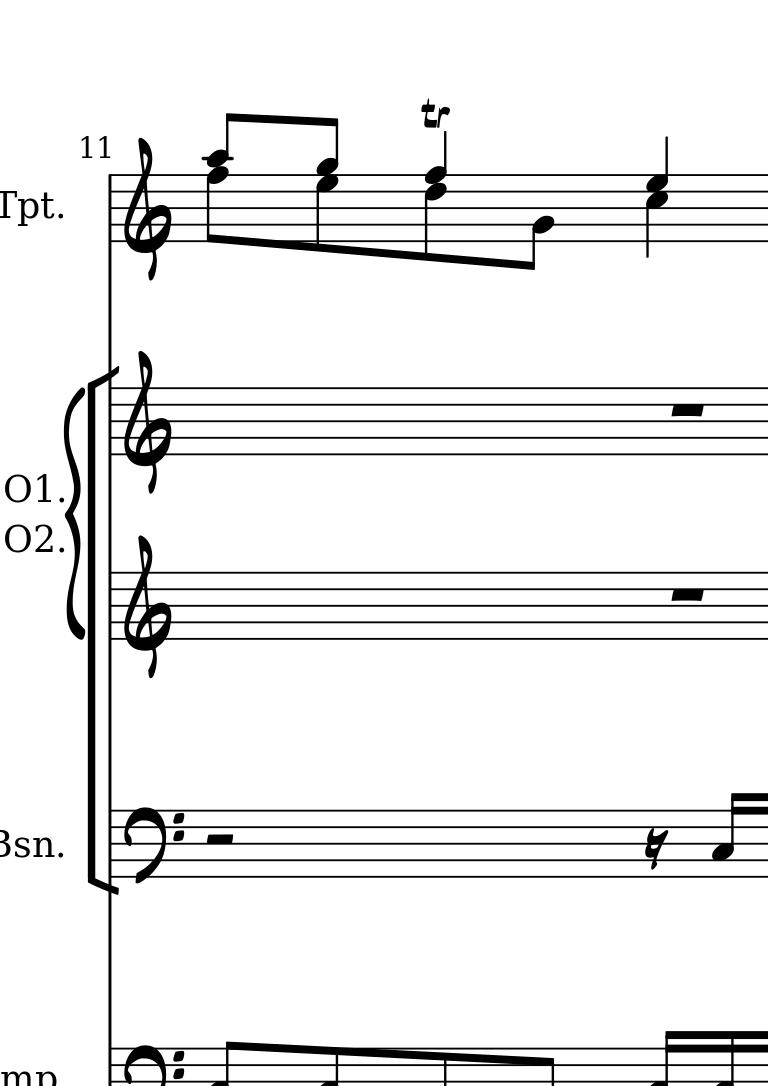1: (79, 133, 95, 162), (96, 134, 112, 162)
16_3: (710, 790, 744, 879)
4_5_7: (644, 136, 671, 261)
8_2: (521, 173, 554, 273)
8_6_8: (422, 165, 450, 263)
8_7_9: (314, 155, 341, 254)
8_8_10: (205, 146, 235, 247)
Brace: (64, 385, 88, 641)
Bracke: (85, 364, 122, 901)
Fclef: (123, 804, 185, 888)
Gclef: (118, 349, 175, 494), (119, 138, 175, 276), (121, 536, 174, 679)
Rests1: (666, 583, 709, 605), (666, 399, 710, 420)
Rests16: (643, 826, 668, 873)
Rests2: (202, 830, 239, 850)
Single_barline: (103, 387, 120, 456), (102, 813, 119, 880), (103, 175, 118, 243), (103, 575, 118, 640), (103, 1048, 118, 1086)
Trill: (418, 95, 454, 128)
